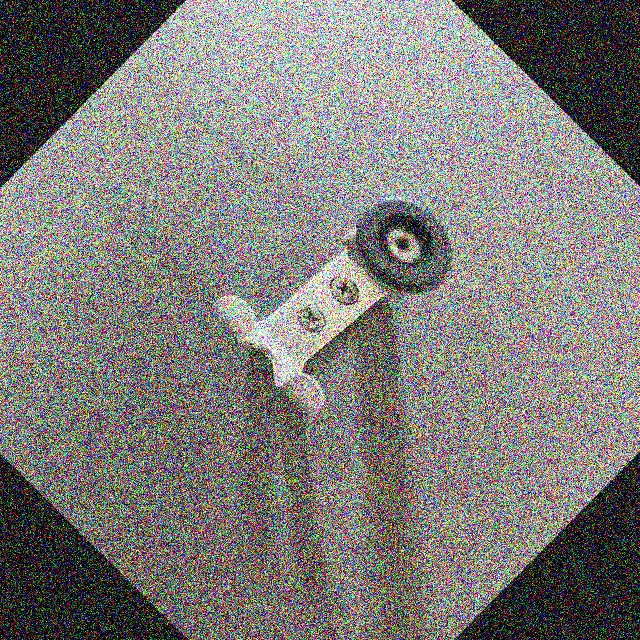phillips: (324, 270, 366, 311), (291, 299, 332, 339)
